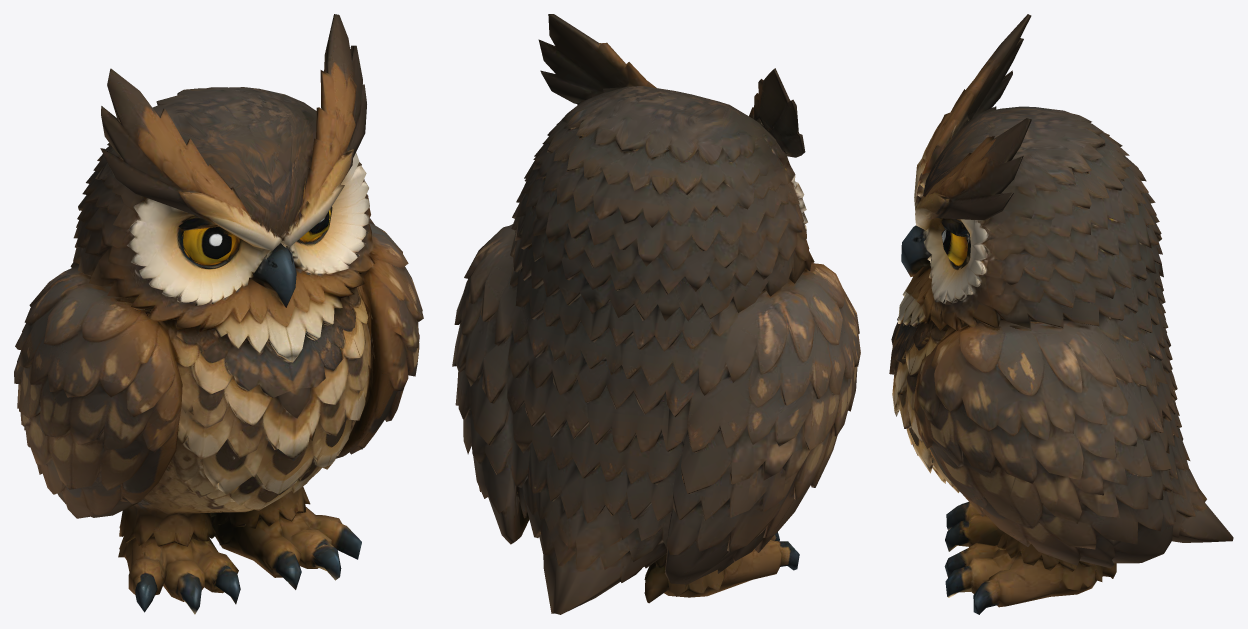
Rendered from hibou.glb.
3 views of the same model, side by side, from view 1: azimuth 30°, elevation 25°; view 2: azimuth 150°, elevation 25°; view 3: azimuth 270°, elevation 25° (orthographic). The views are drawn at different scales.
Parts seen in each view (by area): view 1: hibou; view 2: hibou; view 3: hibou.
Part boxes in pixels (x1,y1,x2,y2): hibou: [14, 14, 423, 614]; hibou: [452, 14, 860, 614]; hibou: [889, 14, 1233, 614].
Size of the model in its own units: 0.4062 by 0.55 by 0.3435.
Materials: 1 (1 with a texture image).
